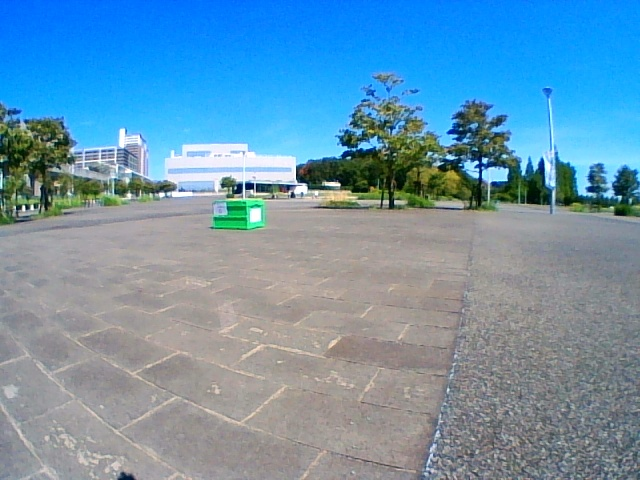green_box: (211, 200, 262, 230)
tag: (214, 204, 226, 216)
